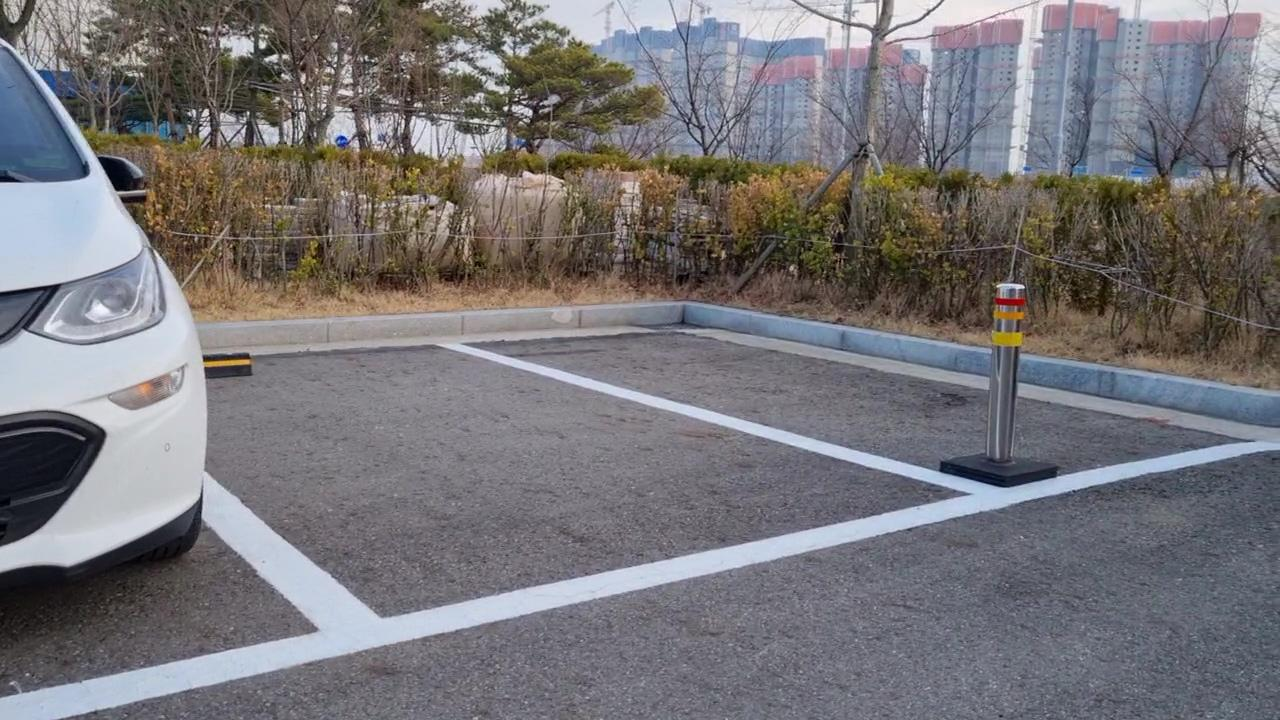empty: (176, 320, 1016, 656)
